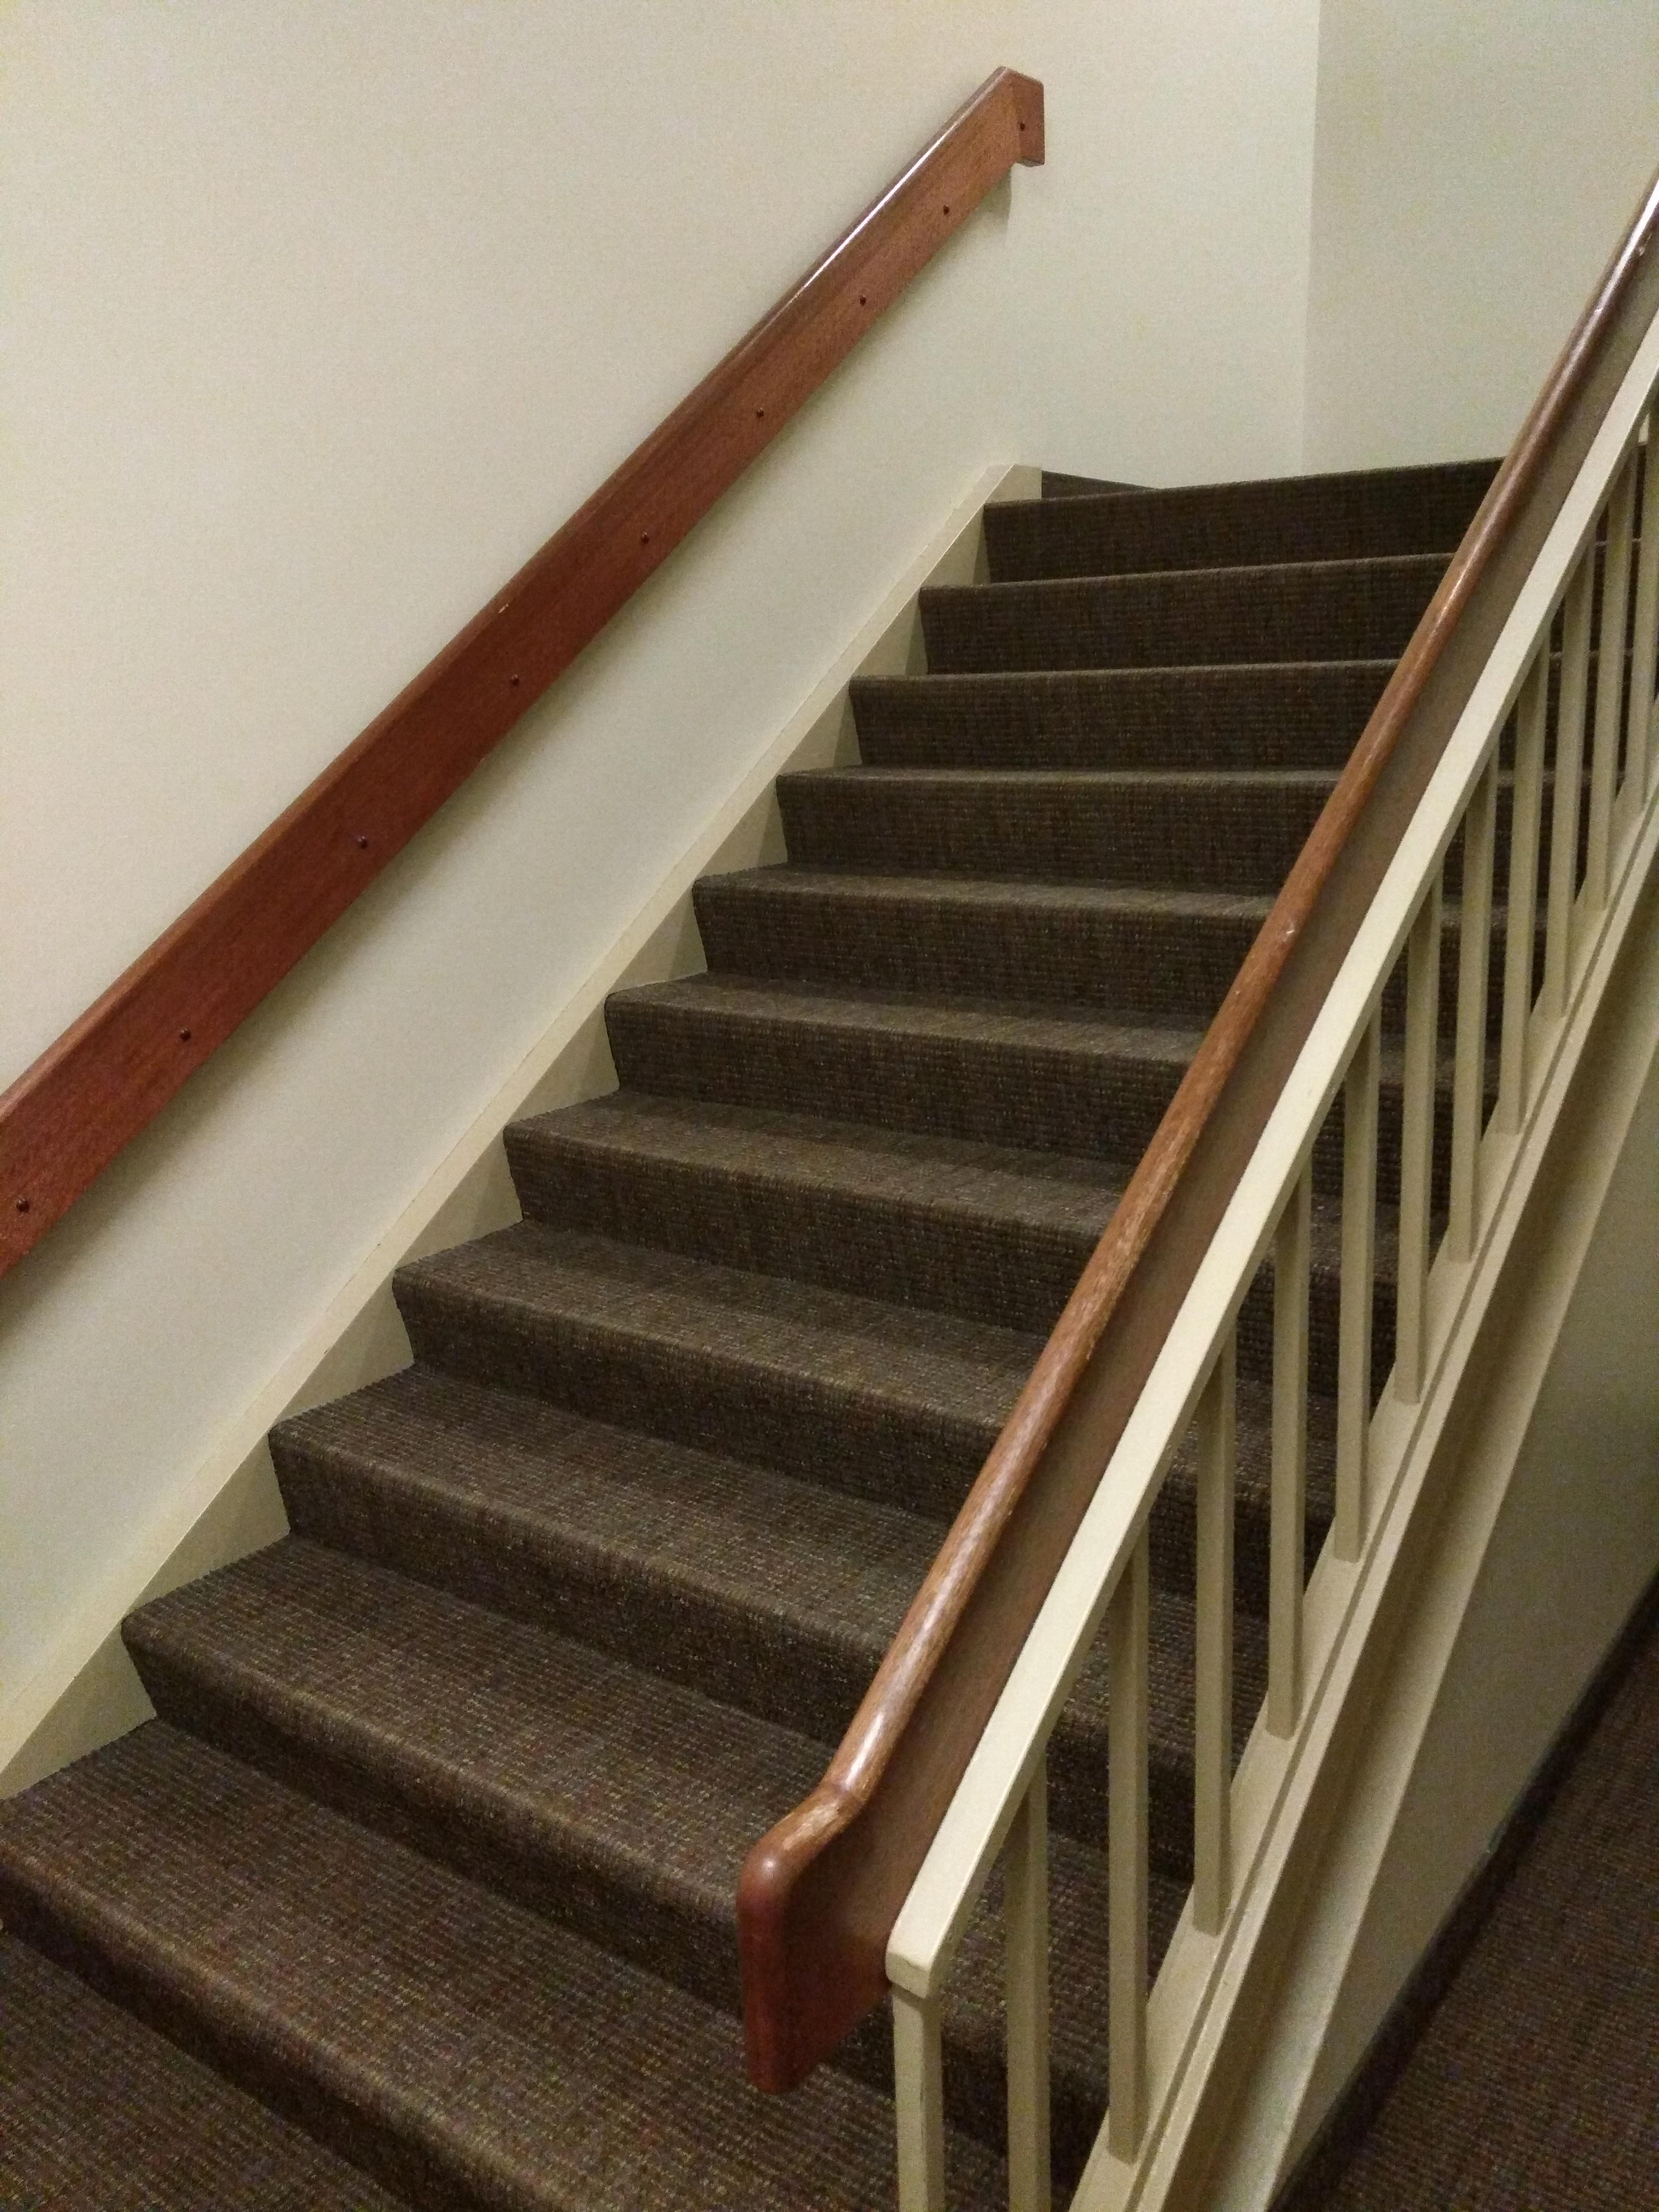stairs_up: (24, 411, 1647, 2168)
